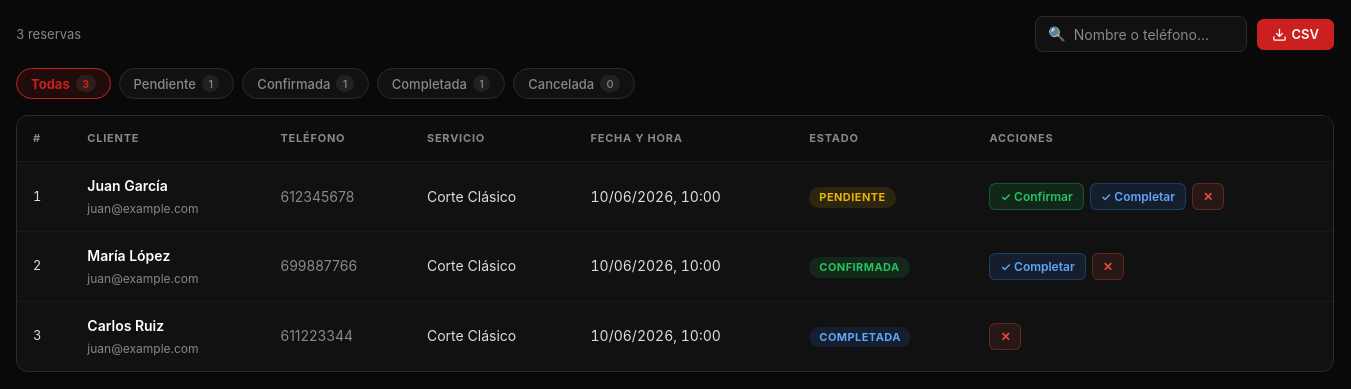
it: AdminReservas › muestra mensaje de búsqueda sin resultados
Check: the text "Juan García" is shown, box x1=87 y1=177 x2=168 y2=194
Type "zzzzinexistente" into the search field named "buscar reserva" at (1154, 34), box x1=1074 y1=26 x2=1234 y2=43
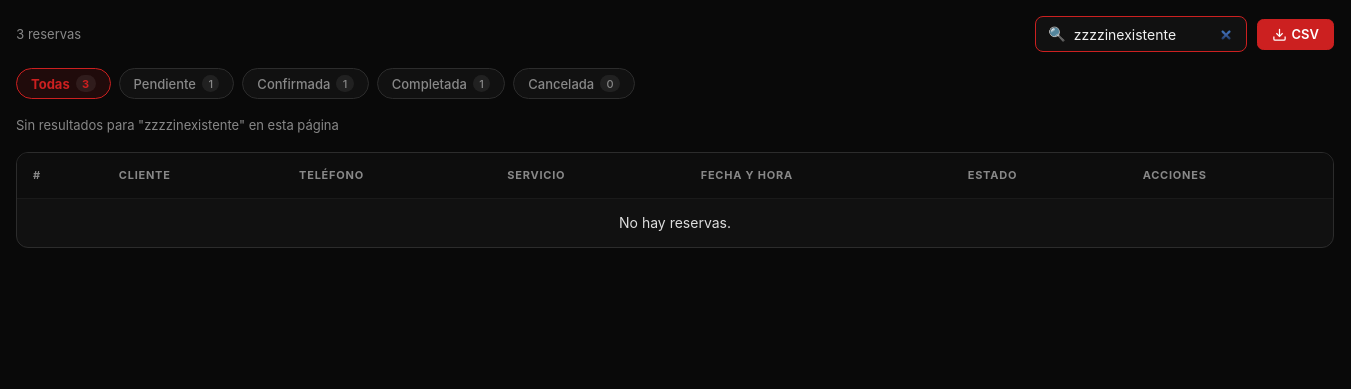
Check: the text "Sin resultados para \"zzzzinexistente\" en esta página" is shown, box x1=16 y1=117 x2=339 y2=133
